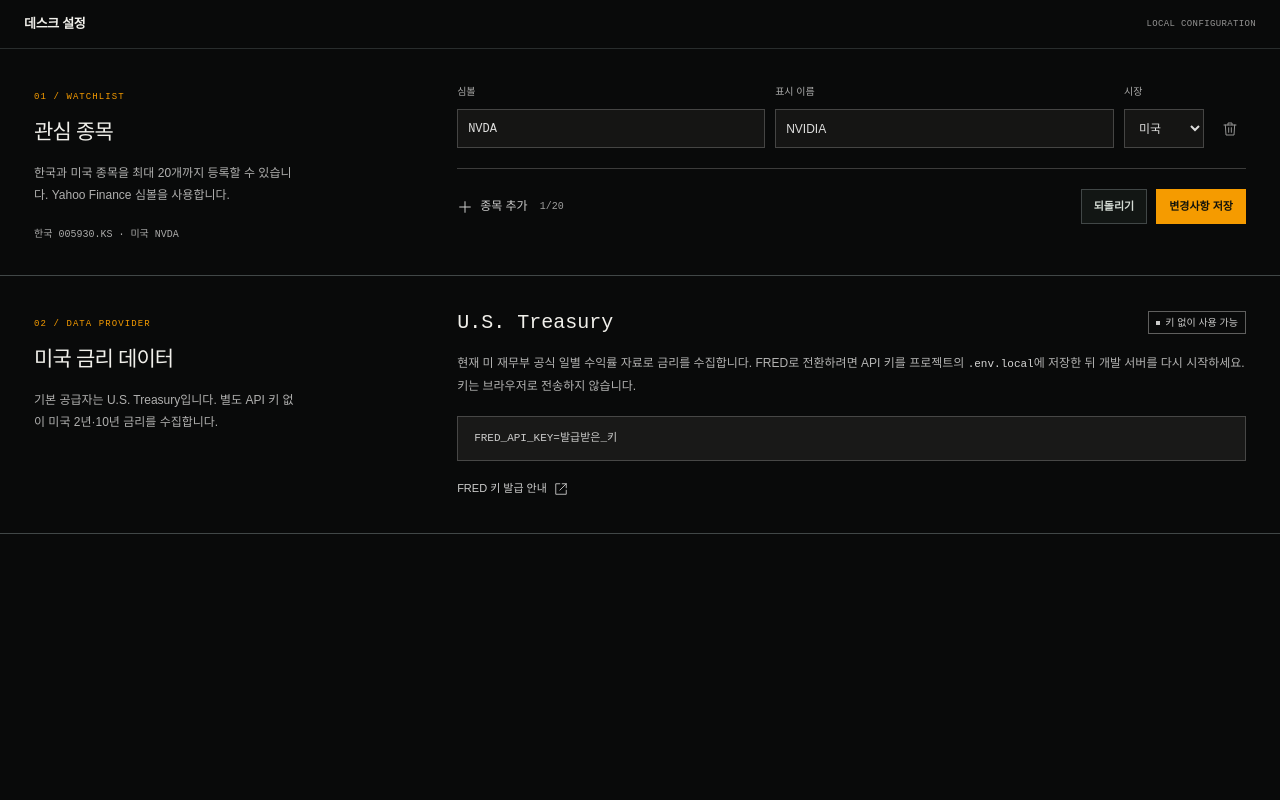
market desk interactions › saves editable local watchlist settings with actionable success feedback
expect the text "키 없이 사용 가능" is shown: met, box [1148,311,1246,334]
Type "엔비디아" into the 2nd field named "관심 종목 1 표시 이름" at (944, 128), box [775,109,1114,148]
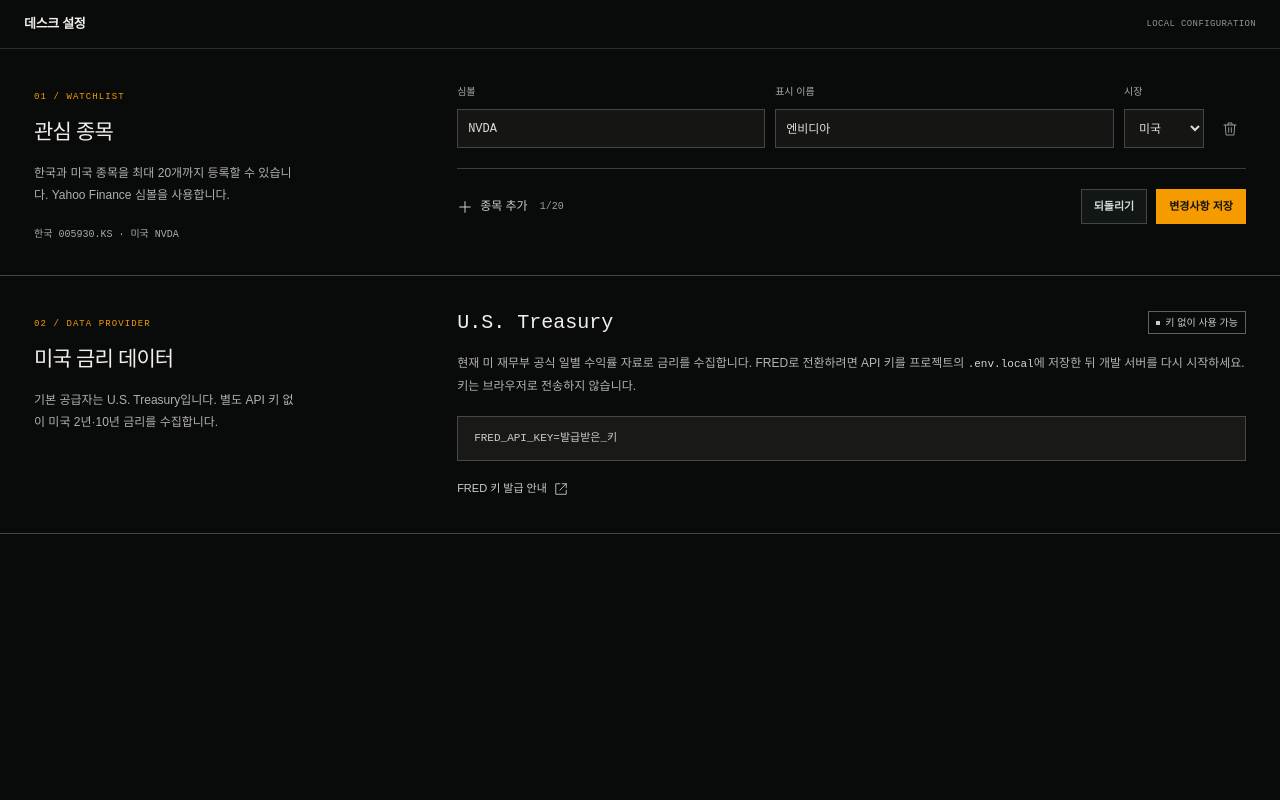
Click the button "변경사항 저장" at (1201, 206), box [1156,189,1246,224]
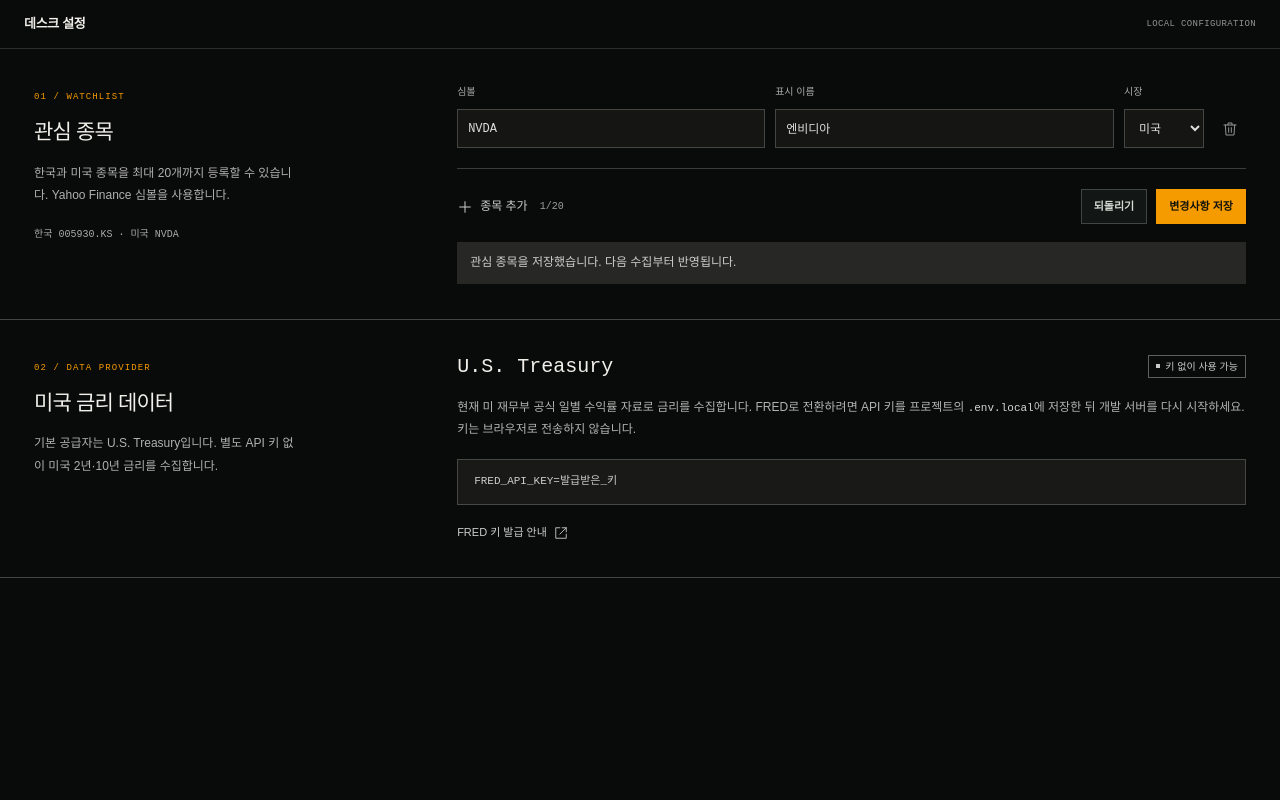
expect the message shows "다음 수집부터 반영": met, box [470,255,736,269]
